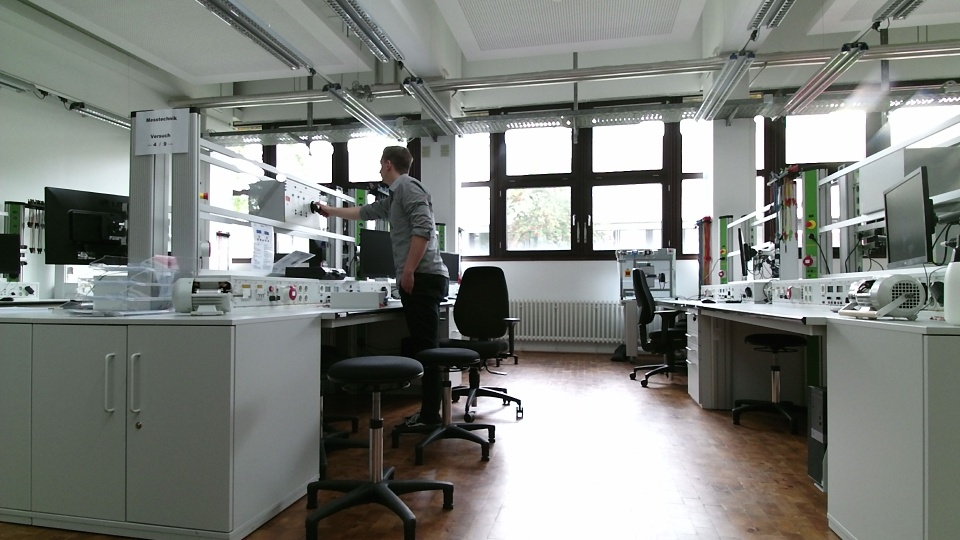Person: (307, 140, 467, 441)
